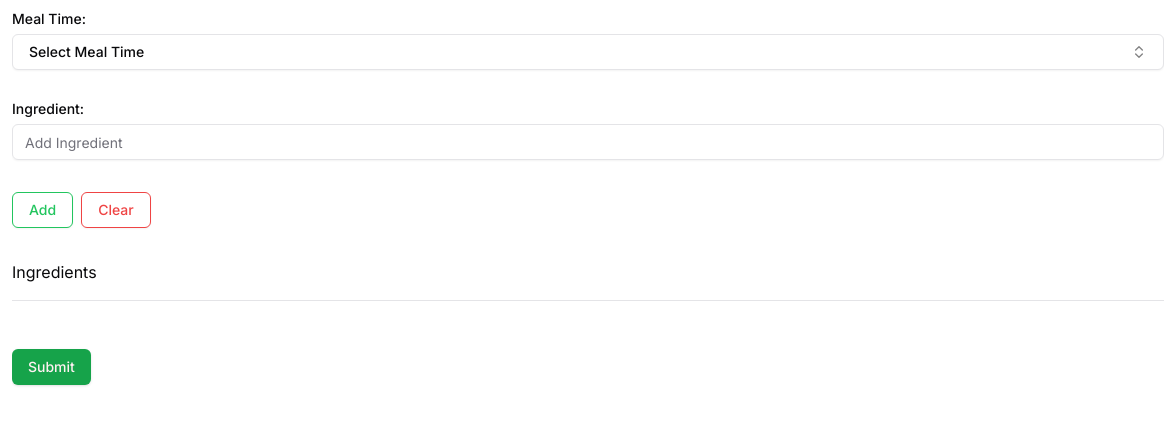
Test: CreateMealForm › delete ingredient
Type "Chicken" into the field with placeholder "Add Ingredient". click: (588, 142)
box: [12,124,1164,160]
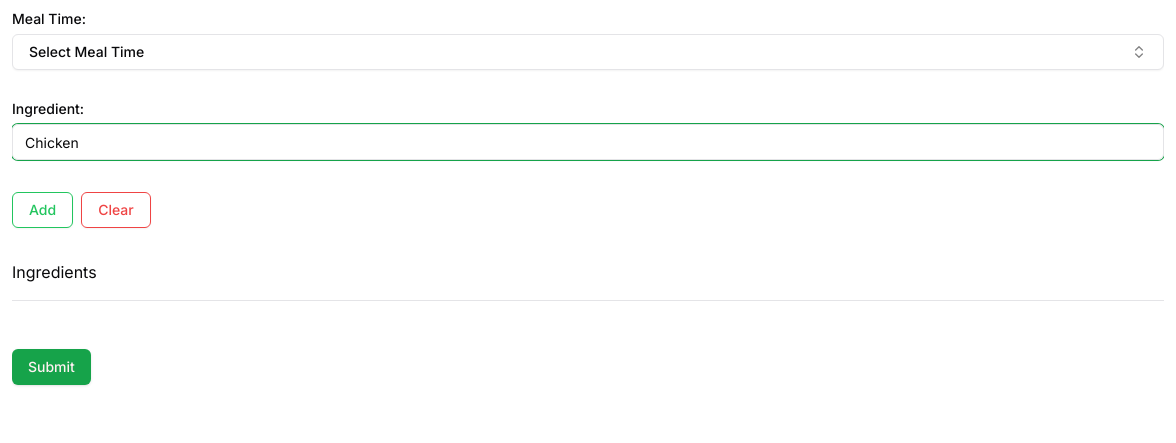
Press Enter
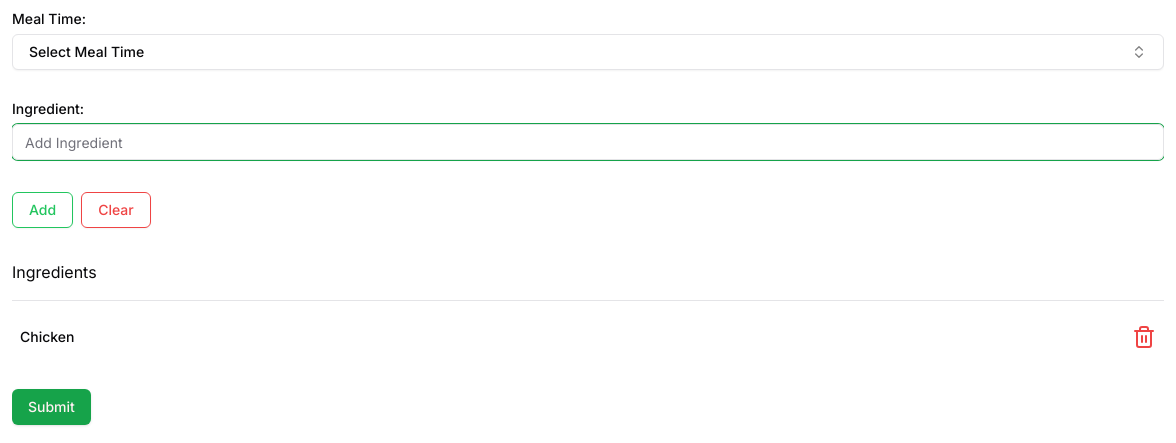
Expected: the table is shown, [12,317,1164,357]
Expected: the text "Chicken" is shown, [12,317,747,357]
Click the icon with test id "trash-icon". click: (1144, 337)
box: [1132,325,1156,349]
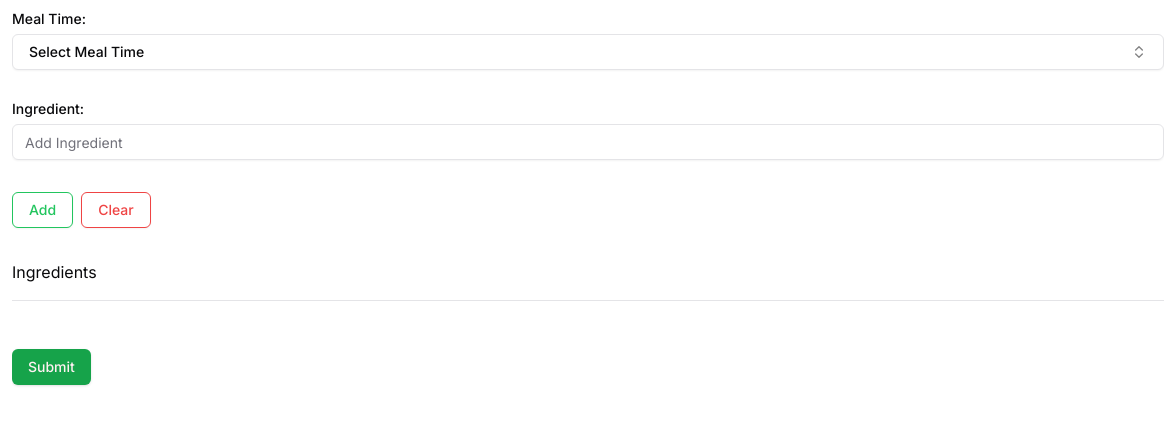
Expected: the text "Chicken" is gone
